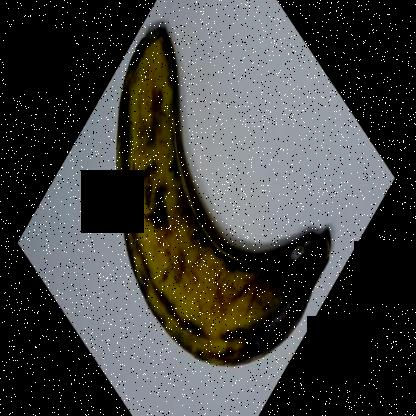overripe: (95, 10, 331, 374)
rotten: (230, 232, 336, 364)
